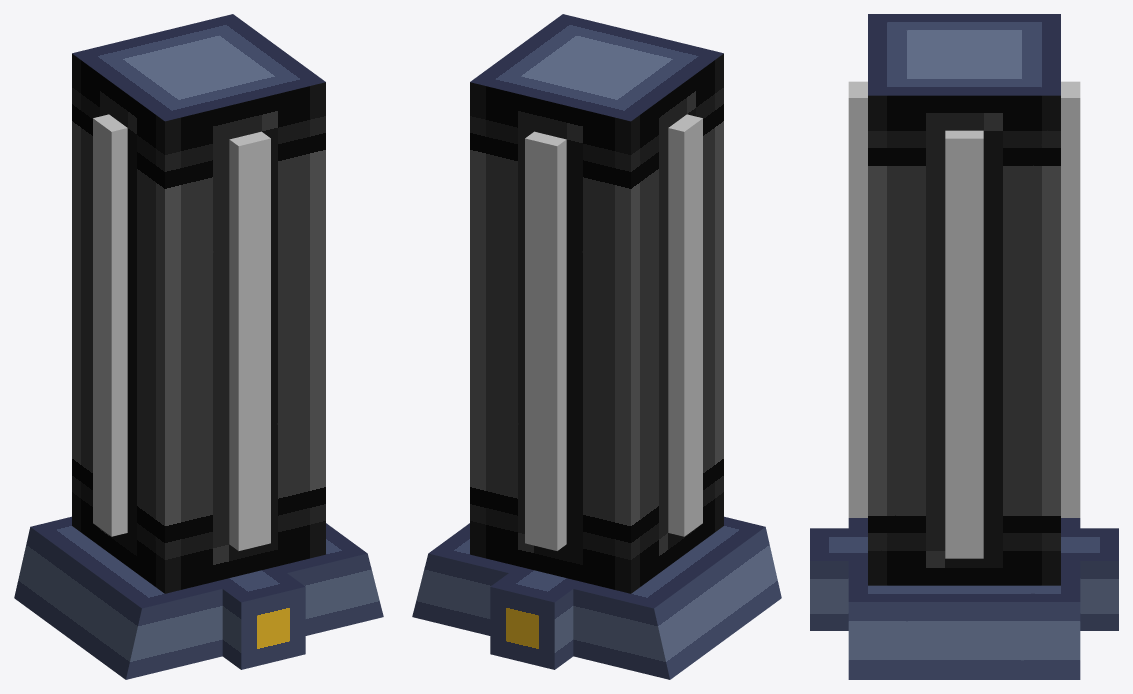
File: Pillar.obj
The picture shows the model from 3 angles, left to right: view 1: azimuth 30°, elevation 25°; view 2: azimuth 150°, elevation 25°; view 3: azimuth 270°, elevation 25°; orthographic projection. The views are drawn at different scales.
Parts seen in each view (by area): view 1: Main, Bottom, LightBar2, LightBar; view 2: Main, Bottom, LightBar2, LightBar; view 3: Main, Bottom, LightBar2, LightBar.
Part boxes in pixels (x1,y1,x2,y2): Main: (72,14,325,593); Bottom: (14,516,383,679); LightBar2: (229,131,270,550); LightBar: (93,114,127,536); Main: (470,14,723,593); Bottom: (412,516,781,679); LightBar2: (525,131,566,550); LightBar: (668,114,702,536); Main: (868,14,1060,585); Bottom: (810,518,1118,679); LightBar2: (848,81,1080,517); LightBar: (945,130,983,558).
Size of the model in its own units: 1 by 2 by 1.
2 materials, 1 textured.
